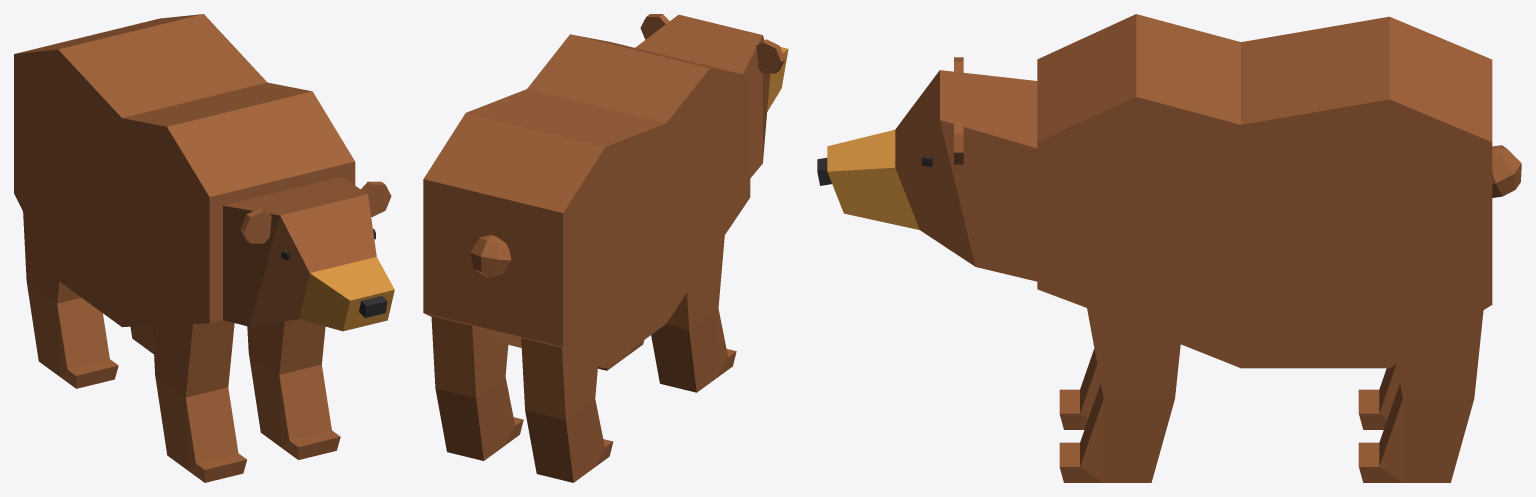
File: bear.fbx
3 renders of one model, left to right at view 1: azimuth 30°, elevation 25°; view 2: azimuth 150°, elevation 25°; view 3: azimuth 270°, elevation 25°, orthographic. The views are drawn at different scales.
Visible parts, largest first — view 1: bear; view 2: bear; view 3: bear.
Part boxes in pixels (<box>): bear: <box>14,14,394,482</box>; bear: <box>423,14,788,482</box>; bear: <box>817,14,1521,482</box>.
Bounding box in the file's own units: 21.77 × 77.58 × 47.4.
